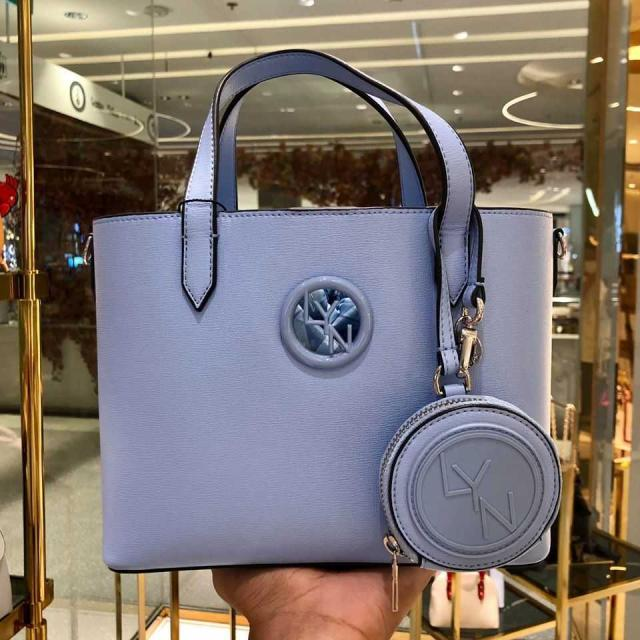handbag: (80, 173, 558, 582)
